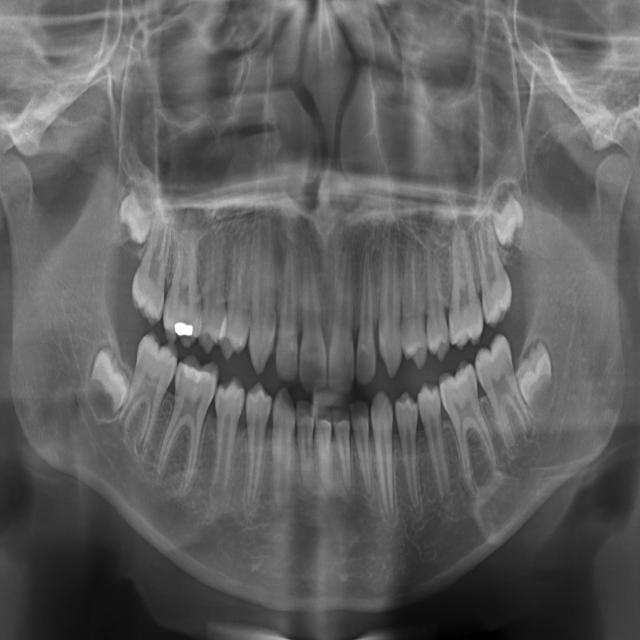AmalgamRestoration: (174, 320, 198, 342)
CompositeResinRestoration: (182, 362, 210, 389)
